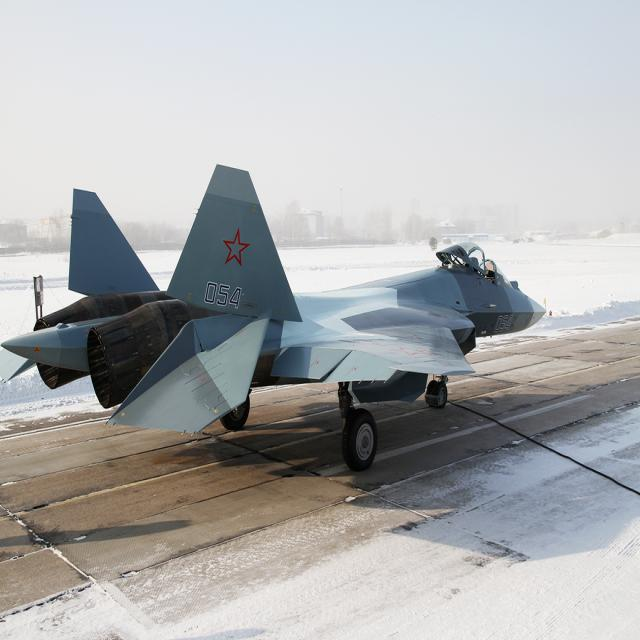MIL_Plane: (0, 163, 546, 471)
